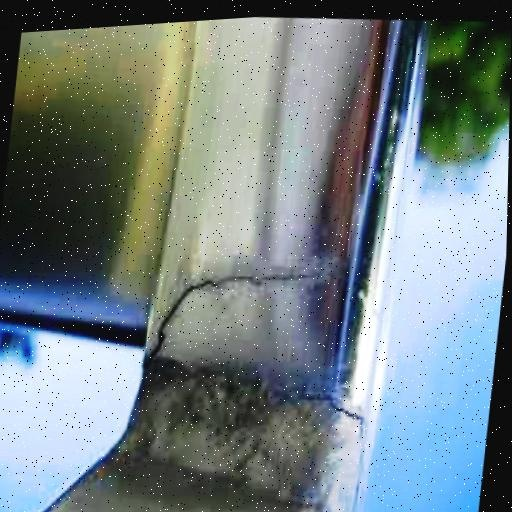crack: (145, 256, 313, 372), (290, 368, 379, 512)
